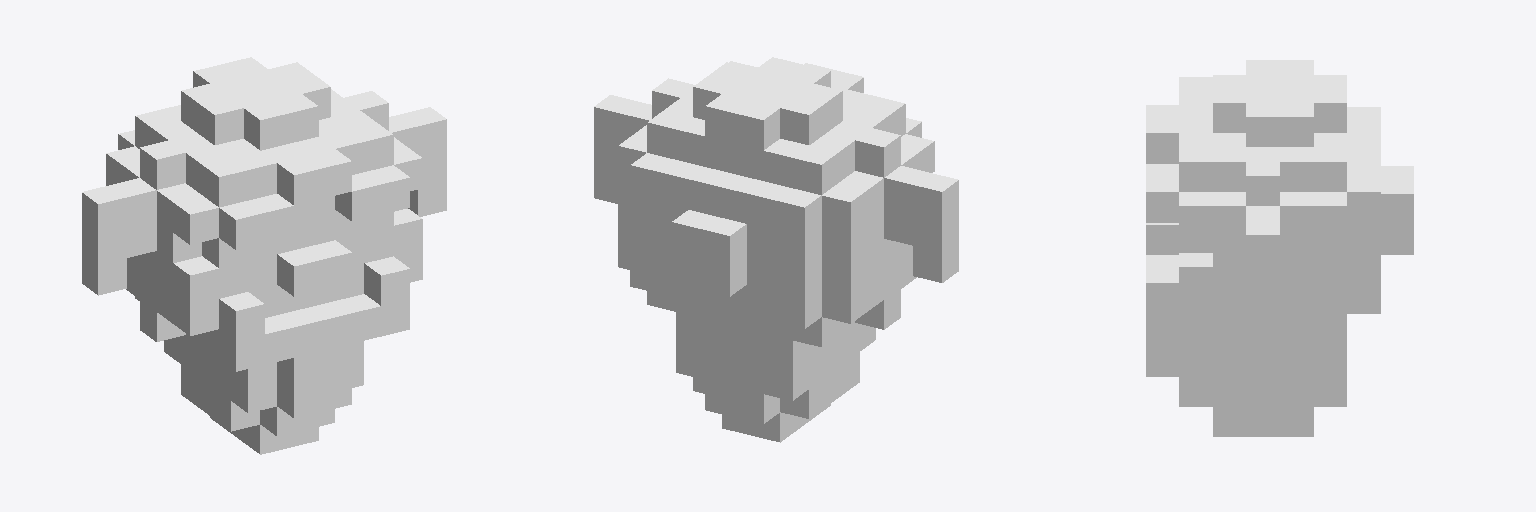
File: Player_Sheep_Body.obj
3 renders of one model, left to right at view 1: azimuth 30°, elevation 25°; view 2: azimuth 150°, elevation 25°; view 3: azimuth 270°, elevation 25°, orthographic.
Visible parts, largest first — view 1: object 1; view 2: object 1; view 3: object 1.
Part boxes in pixels (x1,y1,x2,y2): object 1: (82, 57, 446, 454); object 1: (594, 57, 958, 442); object 1: (1146, 60, 1413, 436).
Size of the model in its own units: 1.2 by 1.1 by 0.8.